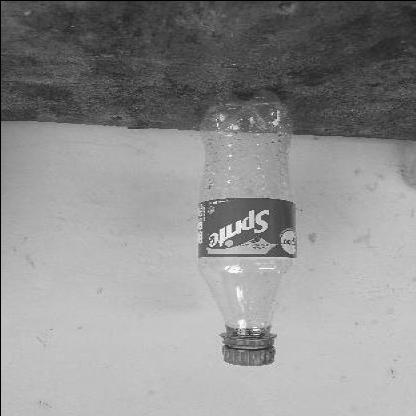plastic_bottles: (192, 88, 292, 368)
